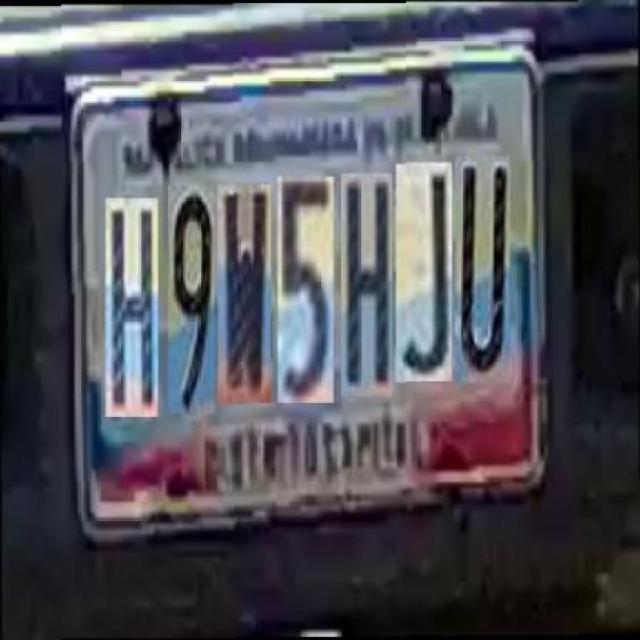5: (278, 174, 333, 401)
9: (168, 182, 214, 410)
h: (104, 194, 158, 414), (340, 172, 392, 396)
j: (396, 162, 452, 382)
u: (455, 155, 510, 383)
w: (218, 182, 272, 402)
